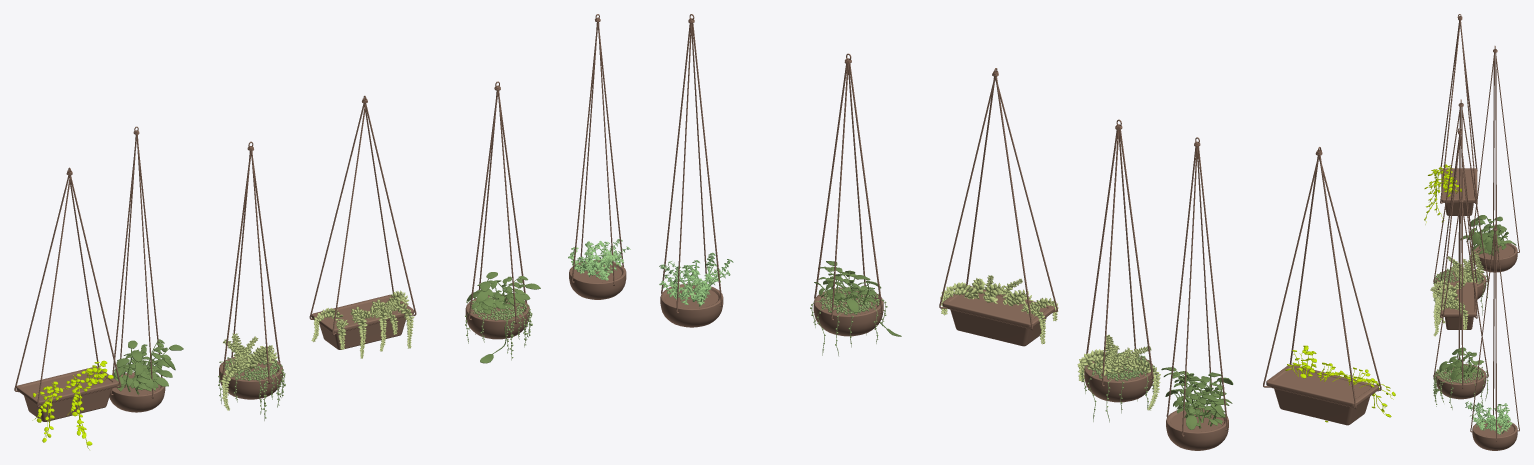
File: additional_greenhouse_hanging_planters.fbx
3 renders of one model, left to right at view 1: azimuth 30°, elevation 25°; view 2: azimuth 150°, elevation 25°; view 3: azimuth 270°, elevation 25°, orthographic. The views are drawn at different scales.
Visible parts, largest first — view 1: hanging_planter_rectangular4, hanging_planter_rectangular3, hanging_planter_long_02, hanging_planter_round10, hanging_planter_round11, hanging_planter_long_03, burrotail_rectangularbox, pothos_plant_single, pothos_with_platform, burrotail_single, elephantbush_single, stringofpearl_02 (+2 smaller); view 2: hanging_planter_rectangular4, hanging_planter_rectangular3, hanging_planter_round10, hanging_planter_long_02, hanging_planter_long_03, hanging_planter_round11, pothos_plant_single, burrotail_rectangularbox, burrotail_single, elephantbush_single, pothos_with_platform, stringofpearl_01 (+1 smaller); view 3: hanging_planter_long_02, hanging_planter_round10, hanging_planter_rectangular4, hanging_planter_long_03, hanging_planter_rectangular3, hanging_planter_round11, pothos_plant_single, burrotail_rectangularbox, elephantbush_single, pothos_with_platform, stringofpearl_01, burrotail_single (+4 smaller).
Part boxes in pixels (box(x1,y1,x2,y2)): hanging_planter_rectangular4: box(14, 167, 121, 421); hanging_planter_rectangular3: box(309, 95, 416, 349); hanging_planter_long_02: box(569, 14, 626, 299); hanging_planter_round10: box(465, 81, 529, 339); hanging_planter_round11: box(219, 141, 282, 399); hanging_planter_long_03: box(109, 126, 165, 412); burrotail_rectangularbox: box(311, 290, 414, 358); pothos_plant_single: box(113, 339, 183, 394); pothos_with_platform: box(466, 272, 540, 363); burrotail_single: box(220, 333, 277, 410); elephantbush_single: box(568, 239, 630, 280); stringofpearl_02: box(218, 356, 285, 420); hanging_planter_rectangular4: box(1263, 147, 1381, 425); hanging_planter_rectangular3: box(939, 68, 1057, 346); hanging_planter_round10: box(813, 53, 883, 336); hanging_planter_long_02: box(660, 14, 723, 327); hanging_planter_long_03: box(1166, 137, 1228, 450); hanging_planter_round11: box(1084, 119, 1153, 402); pothos_plant_single: box(1161, 367, 1233, 429); burrotail_rectangularbox: box(940, 275, 1058, 344); burrotail_single: box(1077, 334, 1160, 410); elephantbush_single: box(659, 252, 733, 306); pothos_with_platform: box(814, 261, 901, 336); stringofpearl_01: box(810, 286, 887, 355); hanging_planter_long_02: box(1470, 224, 1519, 450); hanging_planter_round10: box(1433, 195, 1488, 399); hanging_planter_rectangular4: box(1440, 14, 1477, 215); hanging_planter_long_03: box(1470, 46, 1519, 272); hanging_planter_rectangular3: box(1440, 128, 1477, 329); hanging_planter_round11: box(1433, 99, 1488, 299); pothos_plant_single: box(1460, 215, 1516, 255); burrotail_rectangularbox: box(1430, 277, 1468, 336); elephantbush_single: box(1465, 401, 1512, 434); pothos_with_platform: box(1433, 347, 1483, 392); stringofpearl_01: box(1433, 363, 1488, 410); burrotail_single: box(1447, 251, 1484, 283).
Size of the model in its own units: 901 by 397 by 150.
